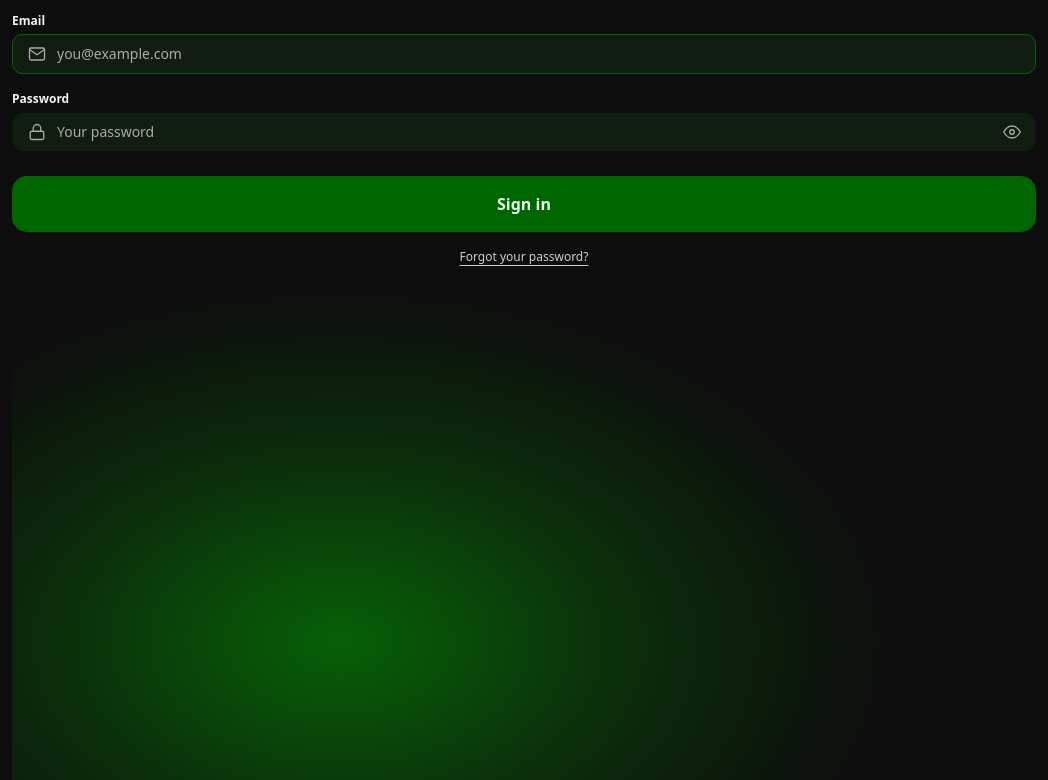
Scenario: LoginForm › renders the generic invalid-credentials copy for a plain 401
In the field labelled "Email": (524, 54) left=12, top=34, right=1036, bottom=74, type "trainer@example.com"
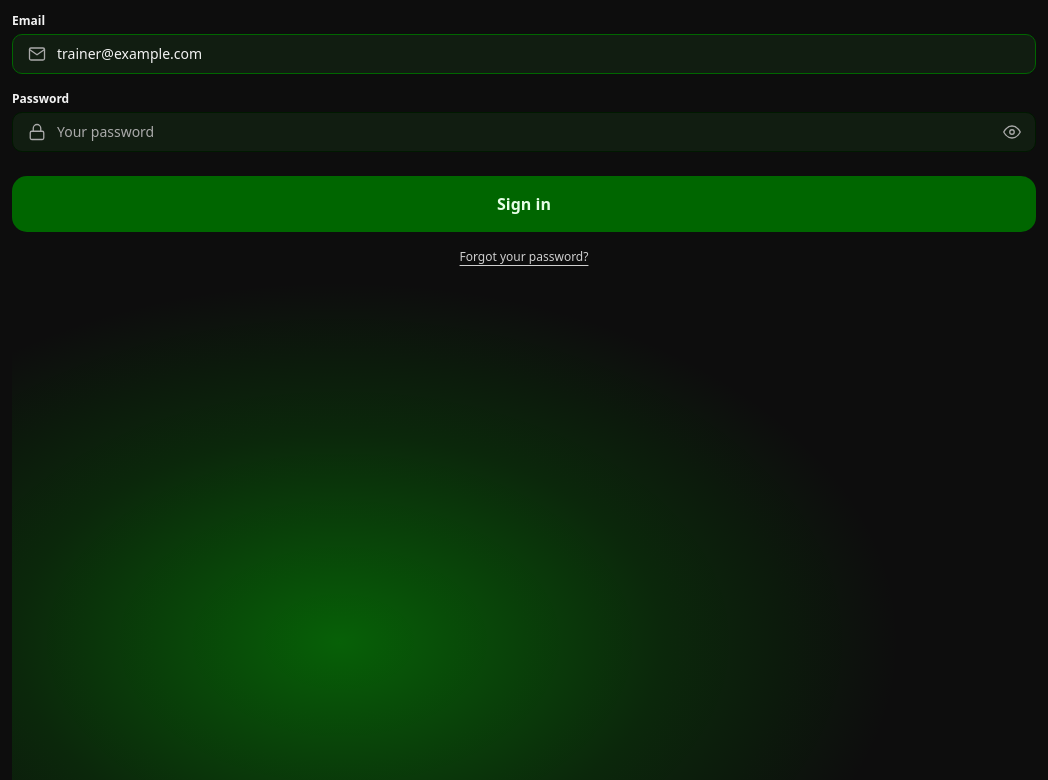
In the password field labelled "Password": (524, 132) left=12, top=112, right=1036, bottom=152, type "Password1"
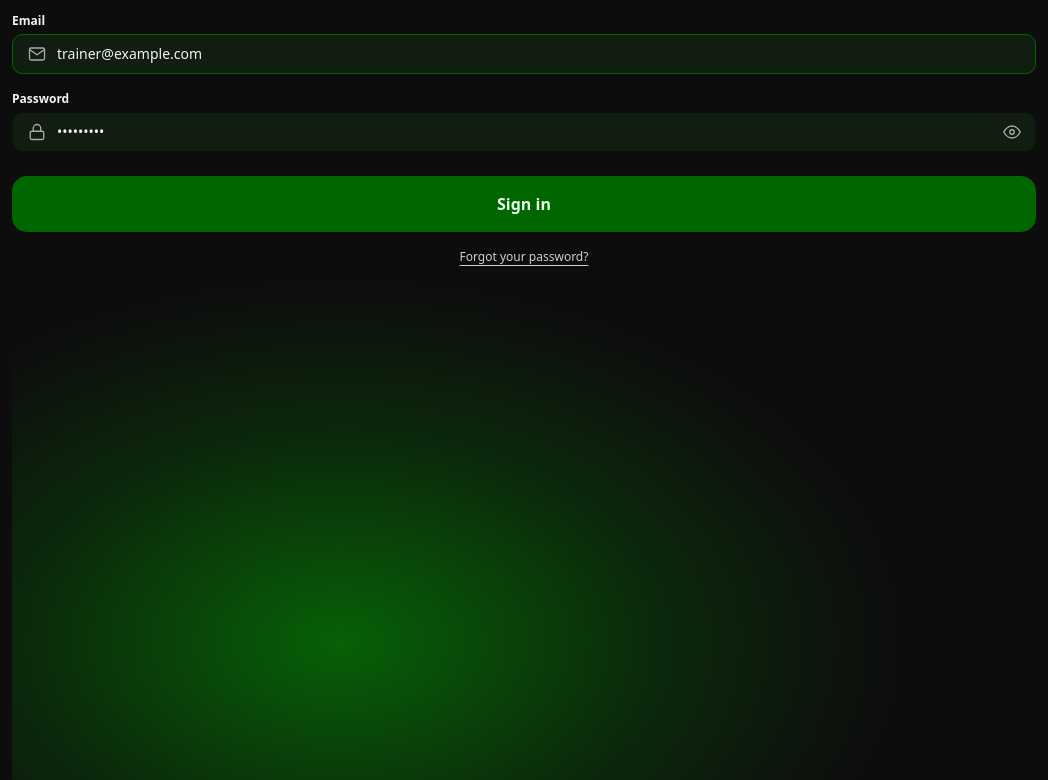
Click the button "Sign in": (524, 204) left=12, top=176, right=1036, bottom=232
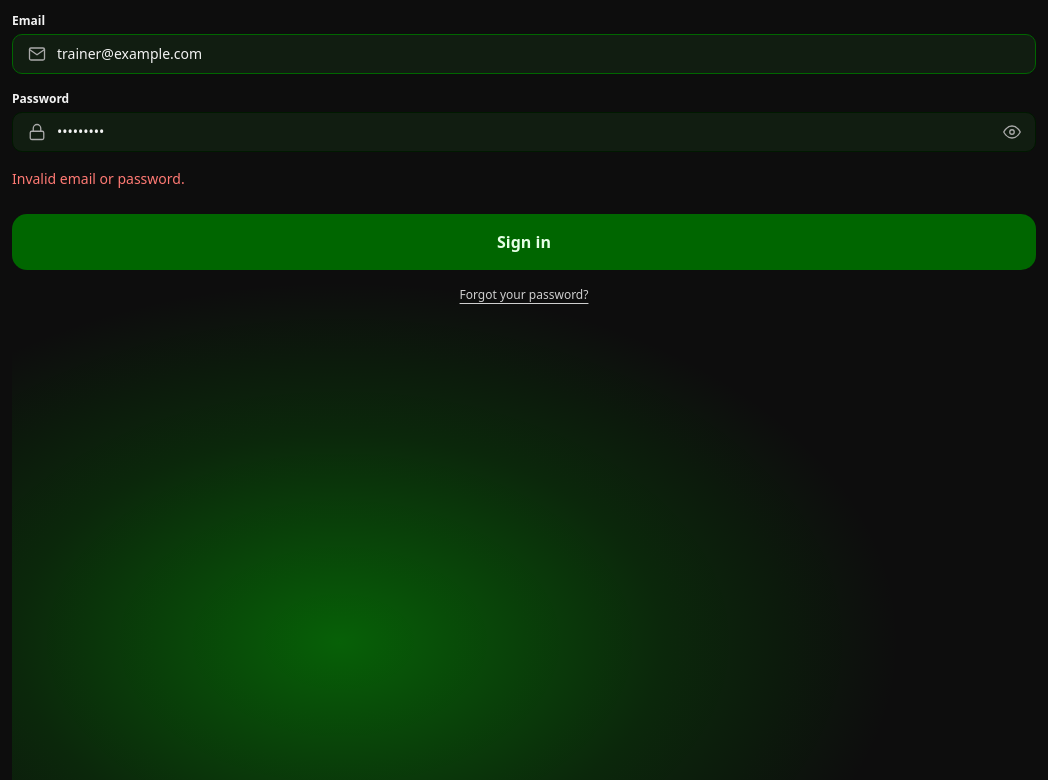
Now the text "Invalid email or password." is shown, box left=12, top=169, right=185, bottom=188
